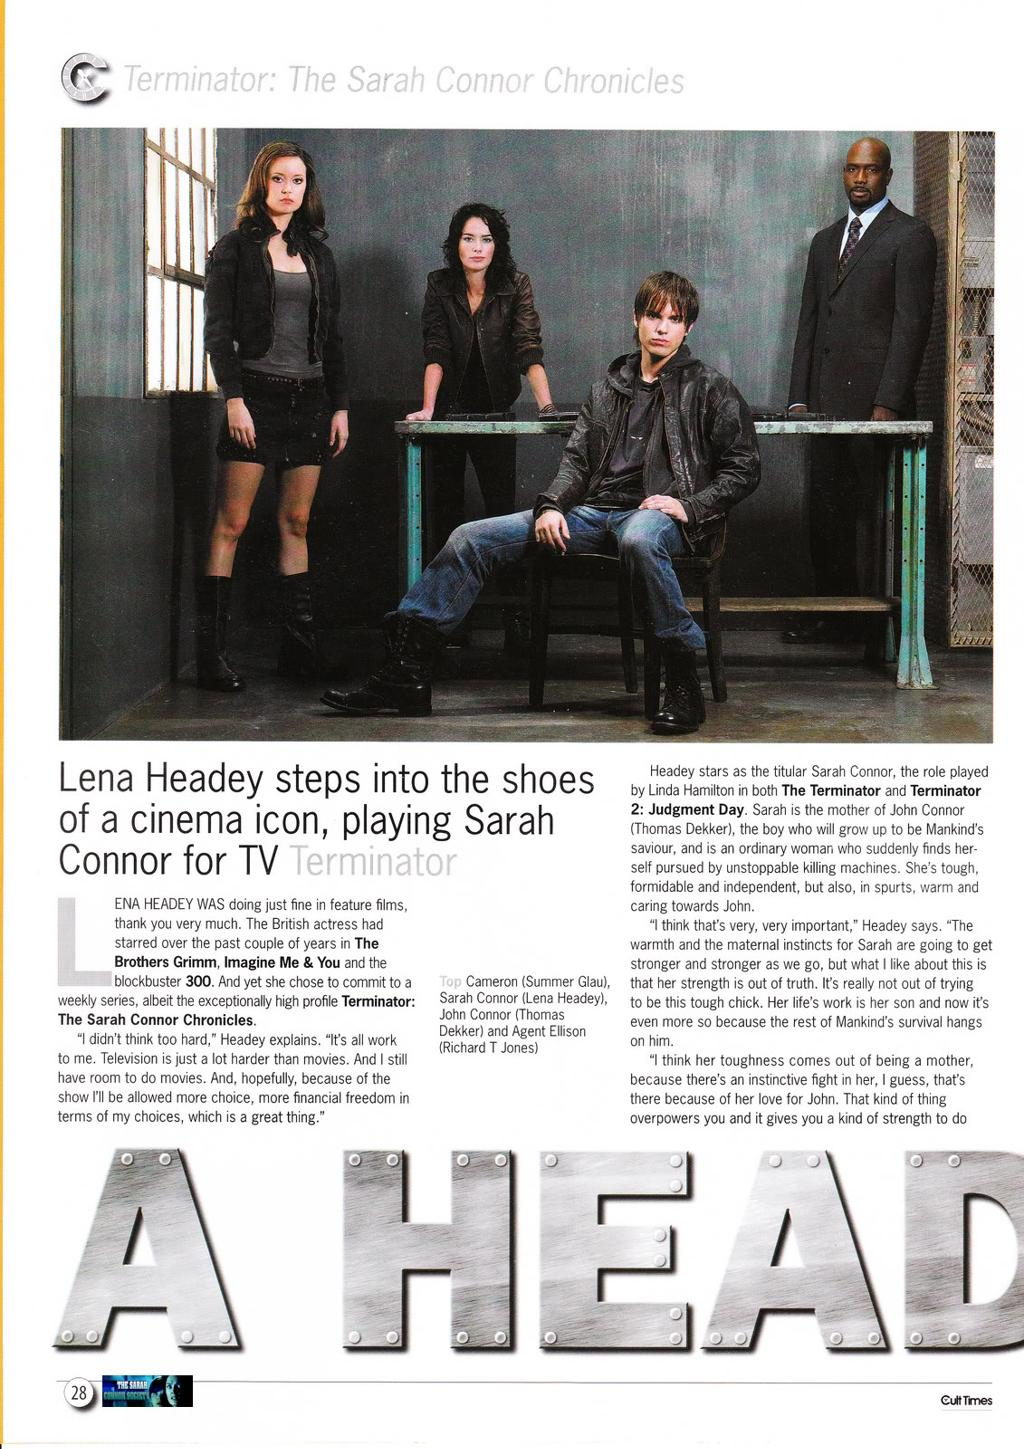face: (844, 142, 885, 206), (639, 298, 684, 357), (266, 157, 305, 213), (458, 221, 495, 270)
